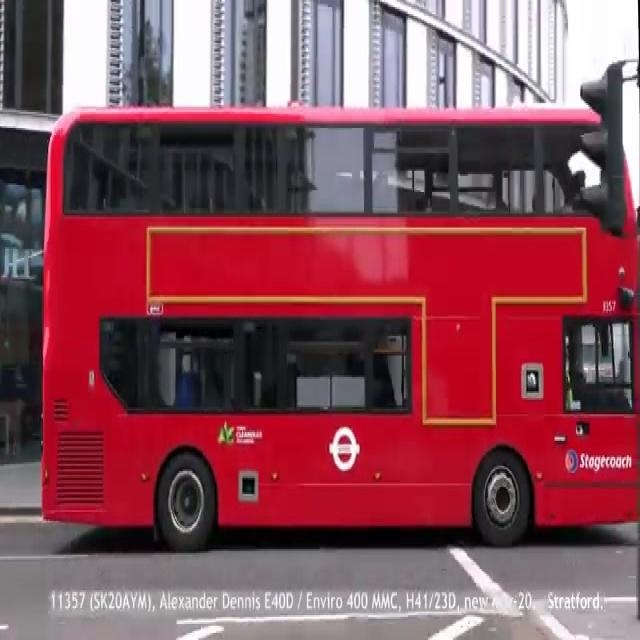Bus: (39, 106, 640, 548)
